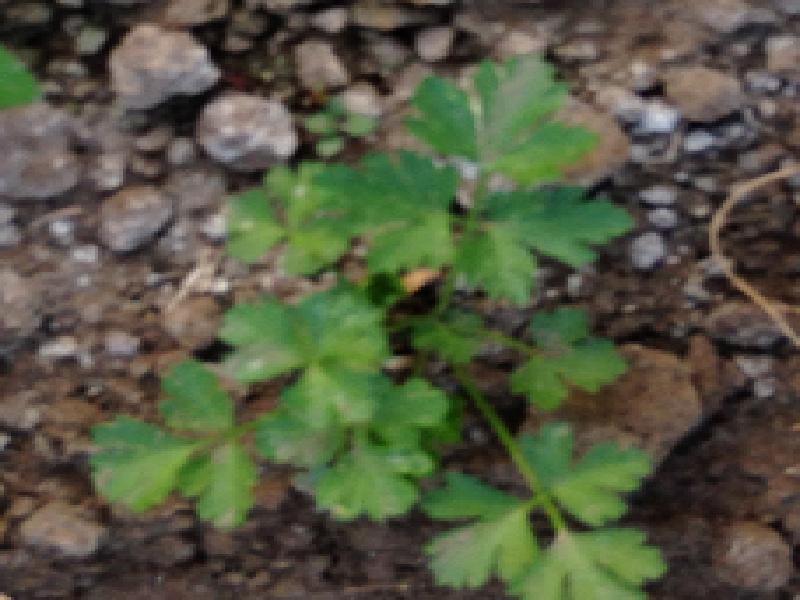radish: (141, 99, 759, 521)
